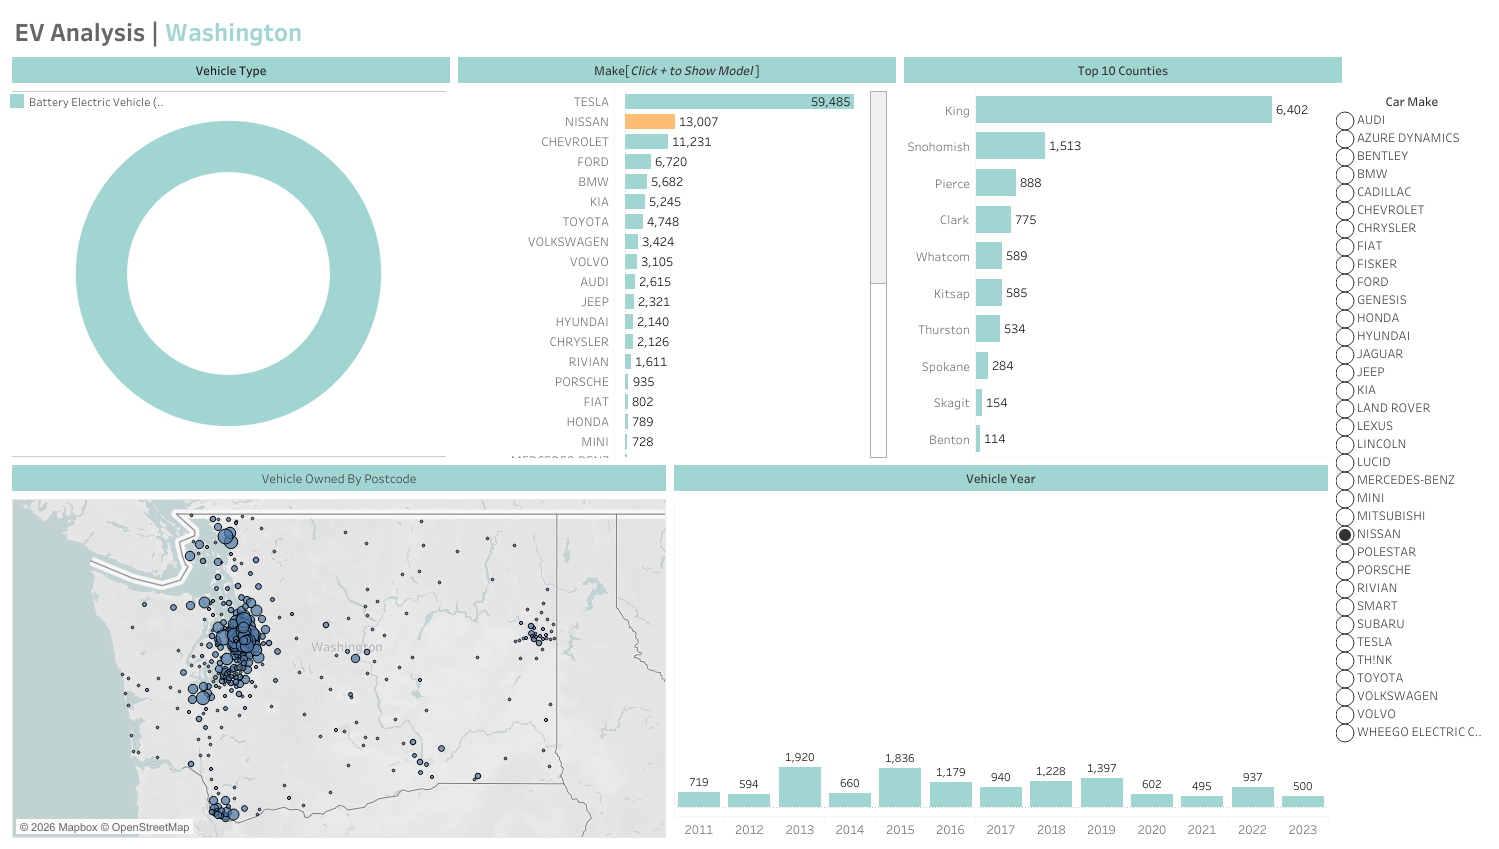

The page's visual inventory and layout, read from the dashboard file:
{"tool":"tableau","page":{"name":"Dashboard 1","canvas":[1500,850],"ordinal":0},"visuals":[{"type":"text","box":[8,8,1484,44.6]},{"type":"text","box":[8,52.6,446.1,34]},{"type":"text","box":[454.1,52.6,446.1,34]},{"type":"text","box":[900.2,52.6,446.1,34]},{"type":"parameter","param":"[Parameters].[Parameter 1]","box":[1332,86.6,160,755.4]},{"type":"worksheet","title":"Vehicle Type Donut","mark":"Pie","rows":["Calculation_0889835920904193","Calculation_0889835920904193"],"box":[8,87,442,374]},{"type":"worksheet","title":"Make & Model","mark":"Automatic","rows":["Make"],"cols":["DOL Vehicle ID"],"box":[450,87,441,374]},{"type":"worksheet","title":"Top 10 Counties","mark":"Automatic","rows":["County"],"cols":["DOL Vehicle ID"],"box":[891,87,441,374]},{"type":"legend","title":"Vehicle Type Donut","param":"[federated.0g446ak1rvg2xy15pxmzh1tkuma8].[none:Electric Vehicle Type:nk]","box":[7.3,91.3,162.2,56.2]},{"type":"text","box":[8,461.1,662,33.5]},{"type":"text","box":[670,461.1,662,33.5]},{"type":"worksheet","title":"Map","mark":"Automatic","box":[8,494.6,662,347.4]},{"type":"worksheet","title":"Year and Type","mark":"Bar","rows":["DOL Vehicle ID"],"cols":["Model Year"],"box":[670,494.6,662,347.4]}]}

Visuals, with their boxes in screenshot pixels (x1, y1, x2, y2), scaled from the page's 1500x850 canvas onto the 1499x849 screenshot:
text: left=8, top=8, right=1491, bottom=53
text: left=8, top=53, right=454, bottom=86
text: left=454, top=53, right=900, bottom=86
text: left=900, top=53, right=1345, bottom=86
parameter: left=1331, top=86, right=1491, bottom=841
"Vehicle Type Donut" worksheet (Pie marks): left=8, top=87, right=450, bottom=460
"Make & Model" worksheet: left=450, top=87, right=890, bottom=460
"Top 10 Counties" worksheet: left=890, top=87, right=1331, bottom=460
"Vehicle Type Donut" legend: left=7, top=91, right=169, bottom=147
text: left=8, top=461, right=670, bottom=494
text: left=670, top=461, right=1331, bottom=494
"Map" worksheet: left=8, top=494, right=670, bottom=841
"Year and Type" worksheet (Bar marks): left=670, top=494, right=1331, bottom=841
